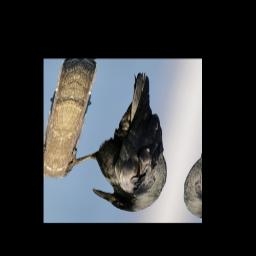Crow: (48, 65, 192, 215)
